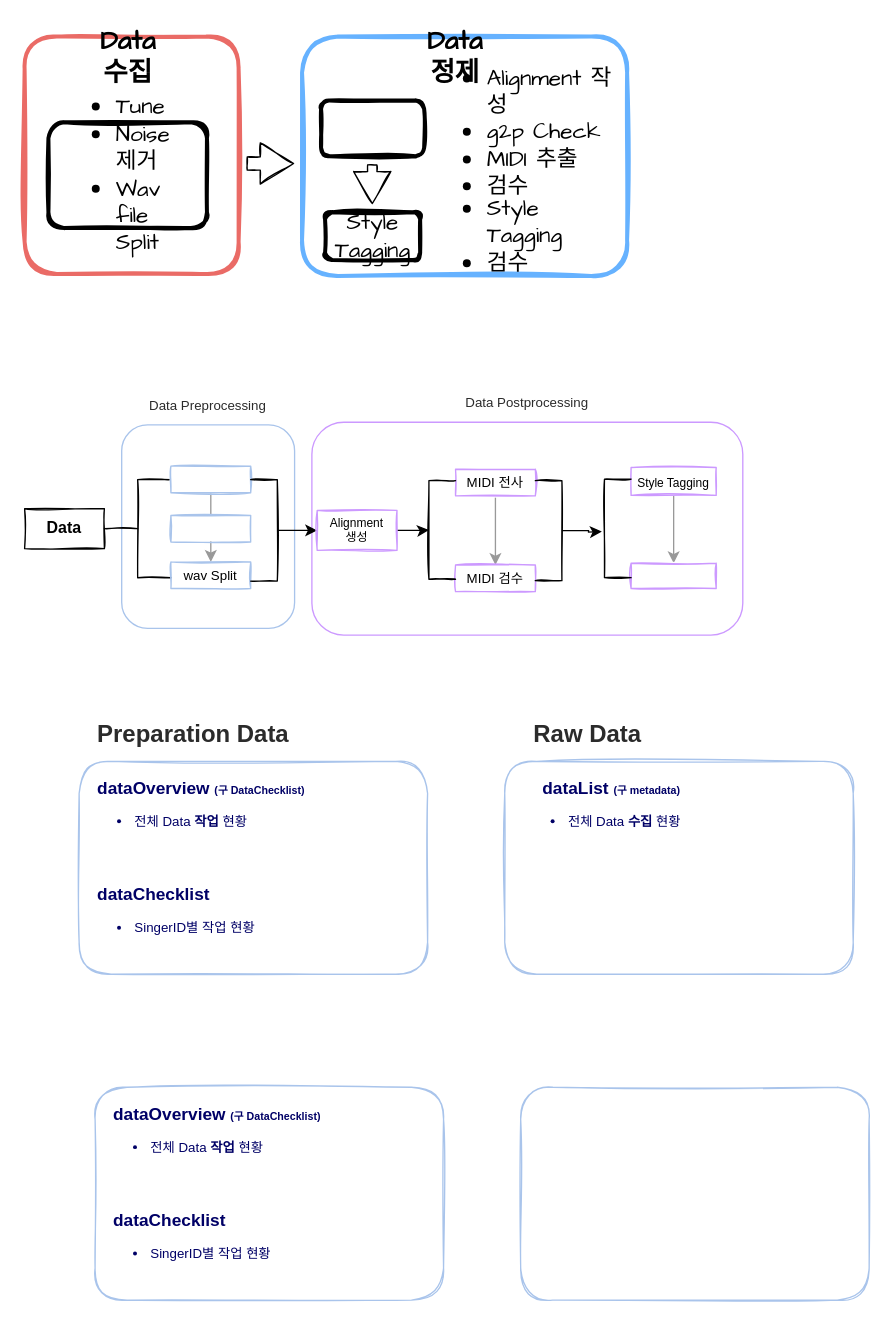
This 892x1323 diagram has some shape labels left out. The shapes that lost their labels are listed below. From the top down, each one's centre as x and y in pixels, then its label:
At pixel 371 128: "MIDI".
At pixel 210 479: "Tune".
At pixel 210 528: "Noise 제거".
At pixel 673 575: "Tagging 검수".
